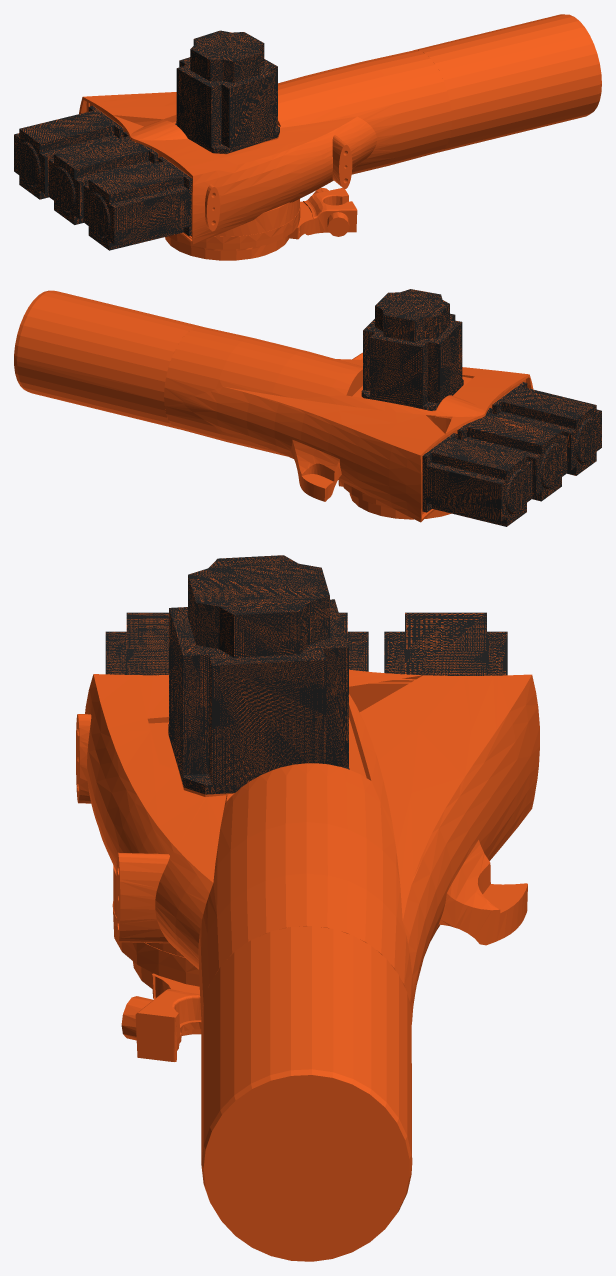
3 renders of one model, top to bottom at view 1: azimuth 30°, elevation 25°; view 2: azimuth 150°, elevation 25°; view 3: azimuth 270°, elevation 25°, orthographic. The views are drawn at different scales.
Visible parts, largest first — view 1: skpF613 (×10); view 2: skpF613 (×10); view 3: skpF613 (×7).
Boxes of the visible parts, x1,y1,x2,y2 form: skpF613 (×10): (14,14,601,260); skpF613 (×10): (14,289,601,526); skpF613 (×7): (76,555,539,1261).
Bounding box in the file's own units: 53.67 × 21.01 × 18.78.
